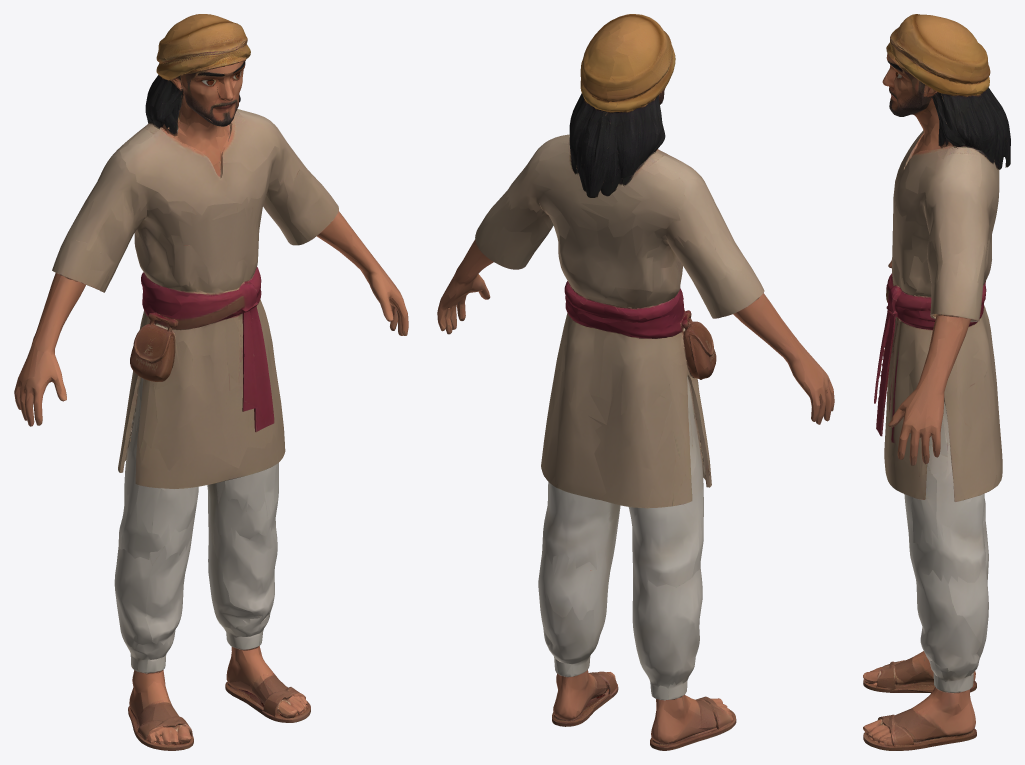
Rendered from candB.glb.
3 views of the same model, side by side, from view 1: azimuth 30°, elevation 25°; view 2: azimuth 150°, elevation 25°; view 3: azimuth 270°, elevation 25° (orthographic).
Size of the model in its own units: 1.09 by 1.9 by 0.3671.
1 material, 1 textured.
